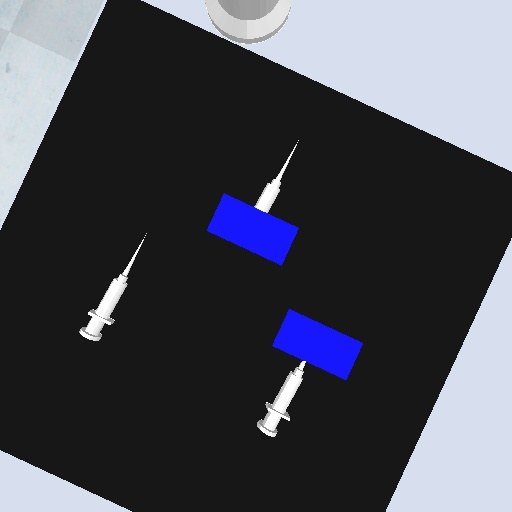jeringuilla: (77, 230, 150, 345), (255, 357, 309, 439), (252, 137, 302, 215)
